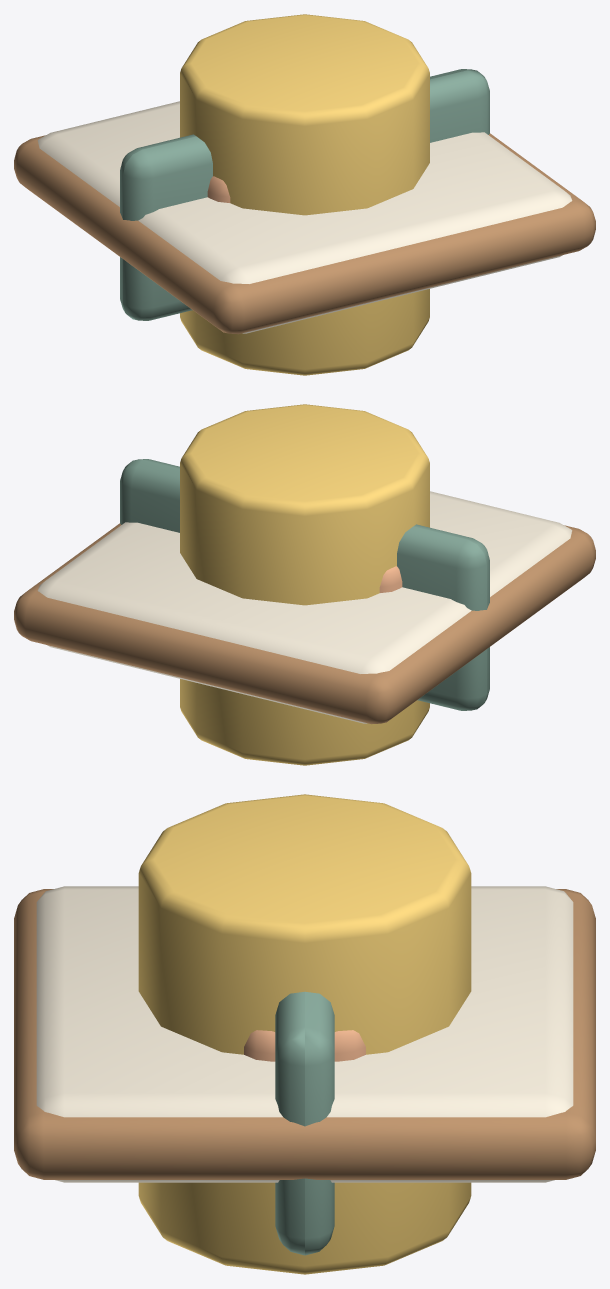
The model's file is factory-kit.glb.
The picture shows the model from 3 angles, top to bottom: view 1: azimuth 30°, elevation 25°; view 2: azimuth 150°, elevation 25°; view 3: azimuth 270°, elevation 25°; orthographic projection. The views are drawn at different scales.
Parts seen in each view (by area): view 1: checkpoint, tile_base, tile_underlay, wall; view 2: checkpoint, tile_base, tile_underlay, wall; view 3: checkpoint, tile_base, tile_underlay, wall, pusher.
Part boxes in pixels (x1,y1,x2,y2): checkpoint: (180, 14, 429, 375); tile_base: (37, 101, 572, 333); tile_underlay: (14, 133, 595, 334); wall: (120, 69, 489, 320); checkpoint: (180, 404, 429, 765); tile_base: (37, 491, 572, 723); tile_underlay: (14, 523, 595, 724); wall: (120, 459, 489, 710); checkpoint: (138, 794, 471, 1274); tile_base: (36, 886, 573, 1182); tile_underlay: (14, 889, 595, 1179); wall: (275, 991, 334, 1255); pusher: (244, 1030, 365, 1061).
Size of the model in its own units: 0.98 by 0.65 by 0.98.
